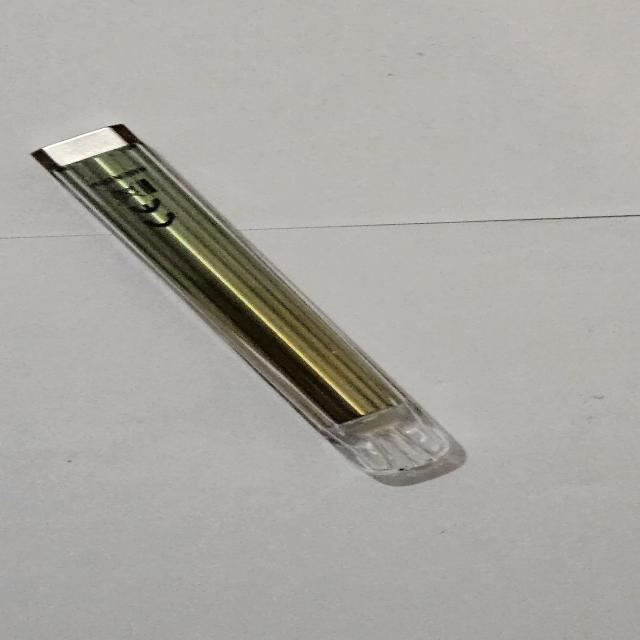Hazard: (30, 123, 469, 487)
